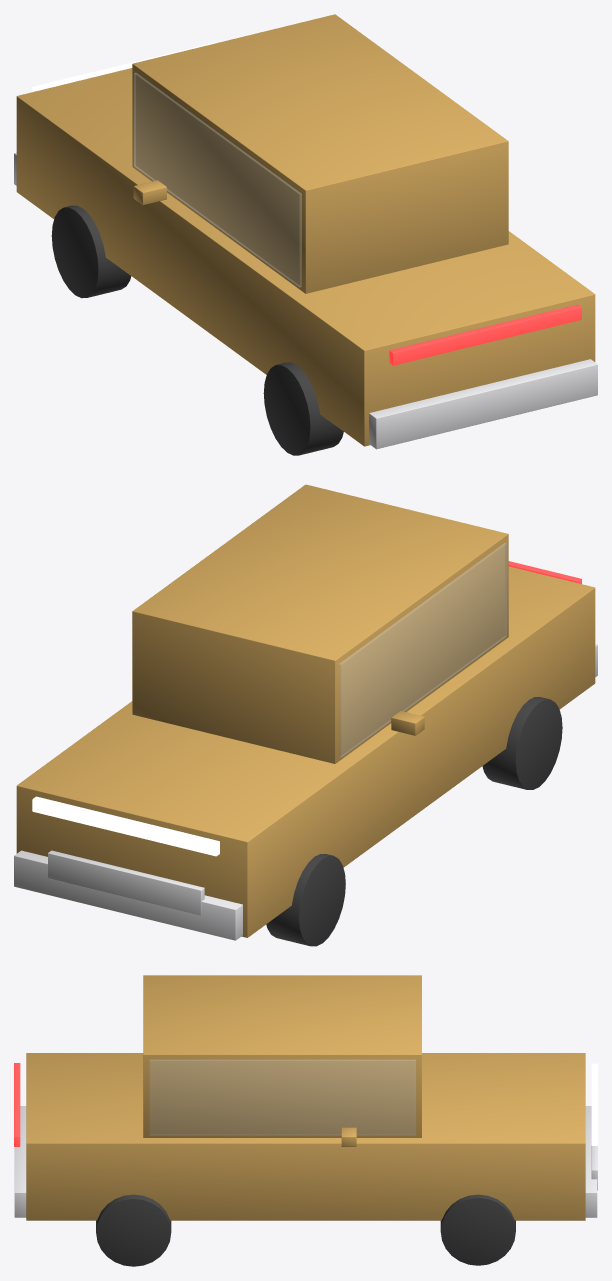
File: vehicle.glb
3 renders of one model, top to bottom at view 1: azimuth 30°, elevation 25°; view 2: azimuth 150°, elevation 25°; view 3: azimuth 270°, elevation 25°, orthographic. The views are drawn at different scales.
Parts seen in each view (by area): view 1: BODY_Roof, BODY_Main, GLASS_Greenhouse, BODY_Bumpers_Rear, WHEEL_RR_Tire, WHEEL_FR_Tire, LIGHT_Taillights, LIGHT_Headlights, BODY_Mirror_R; view 2: BODY_Roof, BODY_Main, GLASS_Greenhouse, BODY_Bumpers_Front, WHEEL_RR_Tire, BODY_Grille, WHEEL_FR_Tire, LIGHT_Headlights, BODY_Mirror_R; view 3: BODY_Main, BODY_Roof, GLASS_Greenhouse, WHEEL_RL_Tire, WHEEL_FL_Tire, BODY_Bumpers_Rear, BODY_Bumpers_Front, LIGHT_Taillights, LIGHT_Headlights.
Boxes of the visible parts, x1,y1,x2,y2 form: BODY_Roof: (132, 14, 508, 293); BODY_Main: (16, 68, 595, 446); GLASS_Greenhouse: (134, 72, 301, 287); BODY_Bumpers_Rear: (369, 359, 597, 449); WHEEL_RR_Tire: (263, 362, 343, 455); WHEEL_FR_Tire: (51, 205, 131, 298); LIGHT_Taillights: (389, 304, 581, 365); LIGHT_Headlights: (32, 42, 217, 91); BODY_Mirror_R: (133, 180, 166, 205); BODY_Roof: (132, 484, 508, 763); BODY_Main: (16, 566, 595, 937); GLASS_Greenhouse: (339, 543, 506, 757); BODY_Bumpers_Front: (14, 850, 242, 940); WHEEL_RR_Tire: (482, 697, 562, 789); BODY_Grille: (48, 850, 204, 915); WHEEL_FR_Tire: (266, 854, 345, 946); LIGHT_Headlights: (32, 796, 219, 856); BODY_Mirror_R: (391, 711, 424, 735); BODY_Main: (26, 1053, 585, 1220); BODY_Roof: (143, 975, 421, 1137); GLASS_Greenhouse: (149, 1060, 415, 1135); WHEEL_RL_Tire: (96, 1194, 171, 1266); WHEEL_FL_Tire: (440, 1194, 515, 1265); BODY_Bumpers_Rear: (14, 1106, 26, 1217); BODY_Bumpers_Front: (585, 1106, 597, 1217); LIGHT_Taillights: (14, 1063, 20, 1146); LIGHT_Headlights: (591, 1063, 597, 1145).
Bounding box in the file's own units: 2.09 × 1.78 × 4.66.
